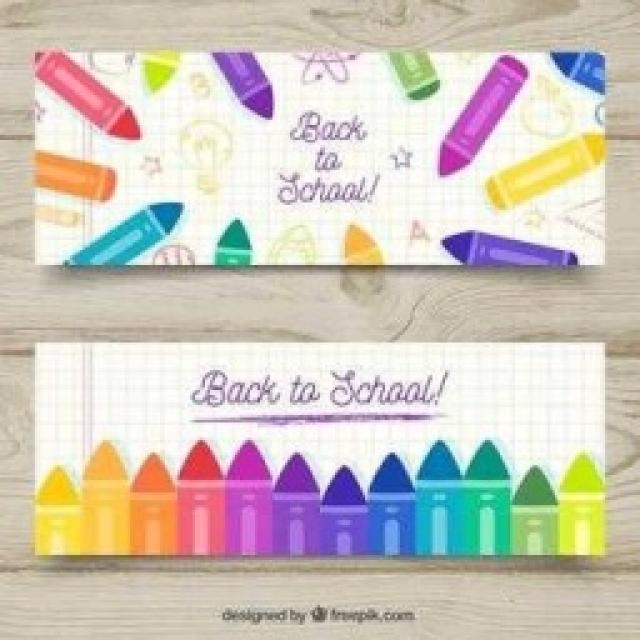pencil: (28, 42, 608, 270), (30, 338, 610, 562)
